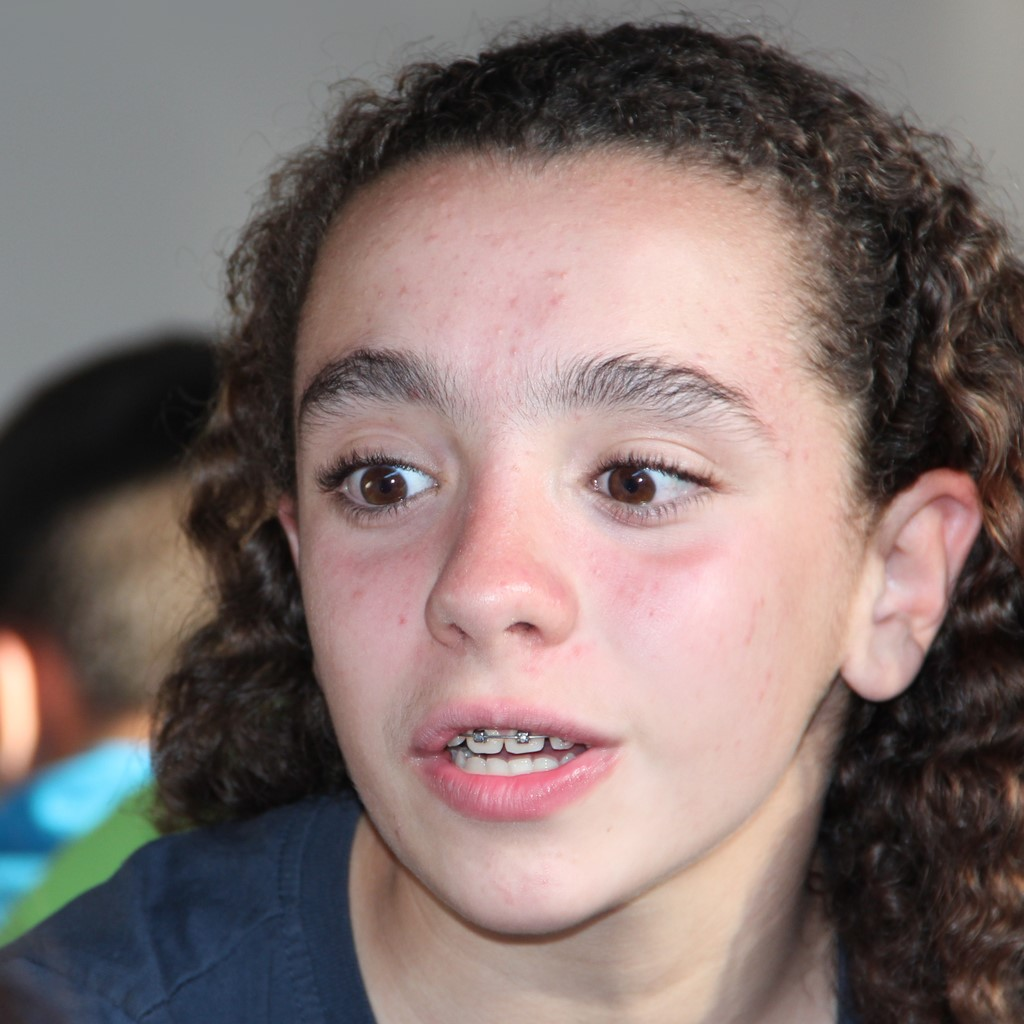sin_mascara: (264, 167, 907, 900)
